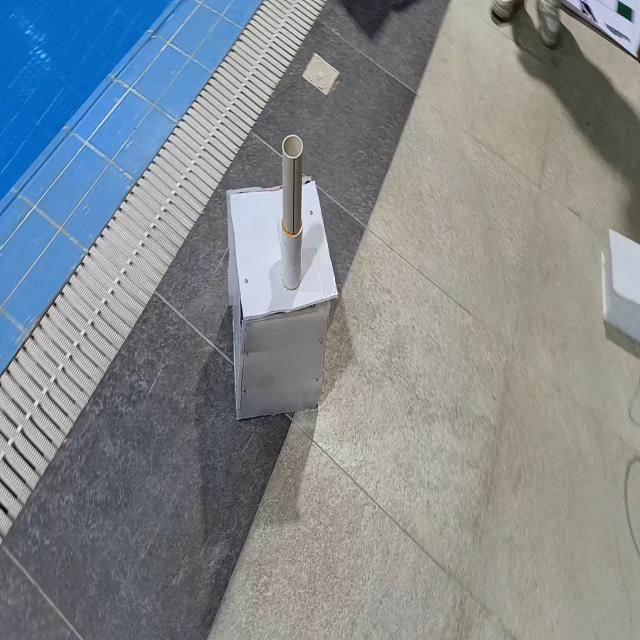Cube: (225, 175, 339, 421)
Cuboid: (600, 225, 639, 342)
